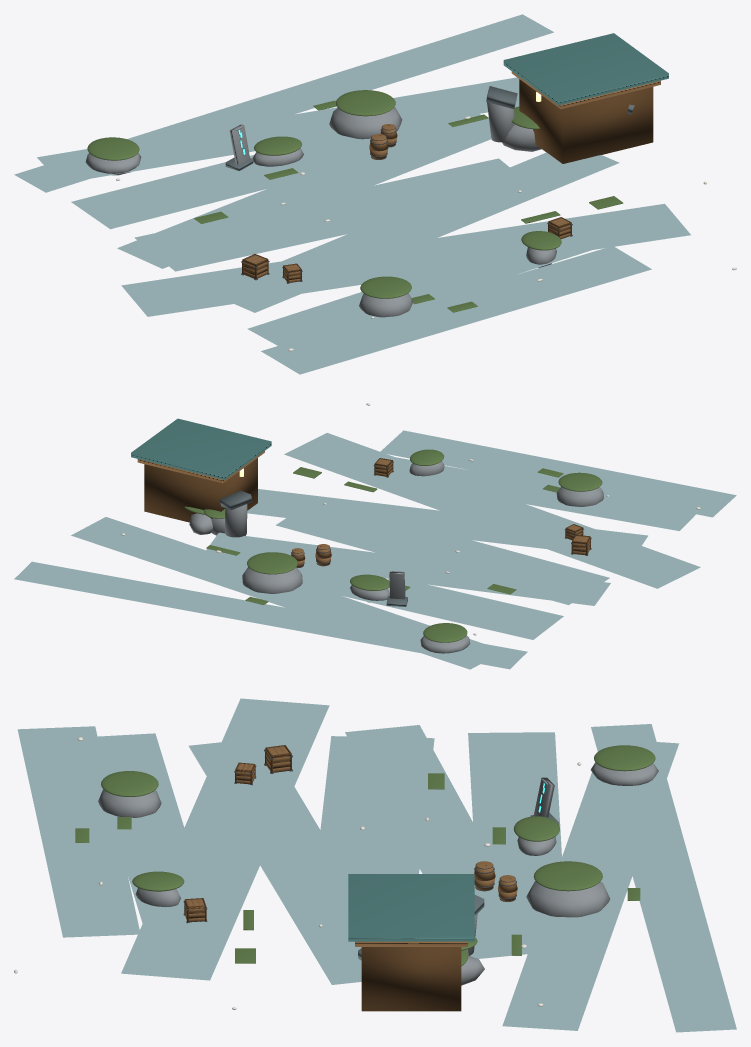
Rendered from 3D模型 scene_tidal_flats.glb.
The picture shows the model from 3 angles, top to bottom: view 1: azimuth 30°, elevation 25°; view 2: azimuth 150°, elevation 25°; view 3: azimuth 270°, elevation 25°; orthographic projection. The views are drawn at different scales.
Visible parts, largest first — view 1: stream_02, stream_08, stream_05, stream_00, stream_04, stream_03, stream_06, stream_07, stream_01, shack_body, shack_canvas_roof, moss_rock_02 (+10 smaller); view 2: stream_02, stream_04, stream_08, stream_07, stream_00, stream_06, stream_03, stream_01, stream_05, shack_canvas_roof, shack_body, moss_rock_02 (+9 smaller); view 3: stream_02, stream_08, stream_00, stream_07, stream_04, stream_03, stream_05, stream_06, stream_01, shack_canvas_roof, shack_body, moss_rock_02 (+9 smaller).
Part boxes in pixels (<box>): stream_02: <box>121,203,690,316</box>; stream_08: <box>14,14,553,192</box>; stream_05: <box>117,109,491,268</box>; stream_00: <box>261,246,651,374</box>; stream_04: <box>134,158,539,271</box>; stream_03: <box>218,152,619,312</box>; stream_06: <box>71,102,473,229</box>; stream_07: <box>37,77,519,178</box>; stream_01: <box>247,218,623,348</box>; shack_body: <box>519,79,653,163</box>; shack_canvas_roof: <box>503,33,668,105</box>; moss_rock_02: <box>329,107,402,139</box>; stream_02: <box>284,433,700,588</box>; stream_04: <box>276,498,609,604</box>; stream_08: <box>14,561,527,669</box>; stream_07: <box>71,517,502,669</box>; stream_00: <box>379,430,736,517</box>; stream_06: <box>193,549,563,639</box>; stream_03: <box>247,489,647,559</box>; stream_01: <box>341,451,698,530</box>; stream_05: <box>206,532,610,605</box>; shack_canvas_roof: <box>131,418,271,479</box>; shack_body: <box>144,458,257,522</box>; moss_rock_02: <box>242,567,302,593</box>; stream_02: <box>121,698,329,980</box>; stream_08: <box>591,724,736,1032</box>; stream_00: <box>17,726,139,937</box>; stream_07: <box>502,739,679,1030</box>; stream_04: <box>308,736,434,935</box>; stream_03: <box>188,740,361,984</box>; stream_05: <box>345,725,544,958</box>; stream_06: <box>468,732,567,953</box>; stream_01: <box>85,733,218,944</box>; shack_canvas_roof: <box>348,874,474,941</box>; shack_body: <box>361,947,461,1011</box>; moss_rock_02: <box>526,881,610,917</box>.
Size of what is drawn, in the model's own units: 23.79 by 3.3 by 21.76.
